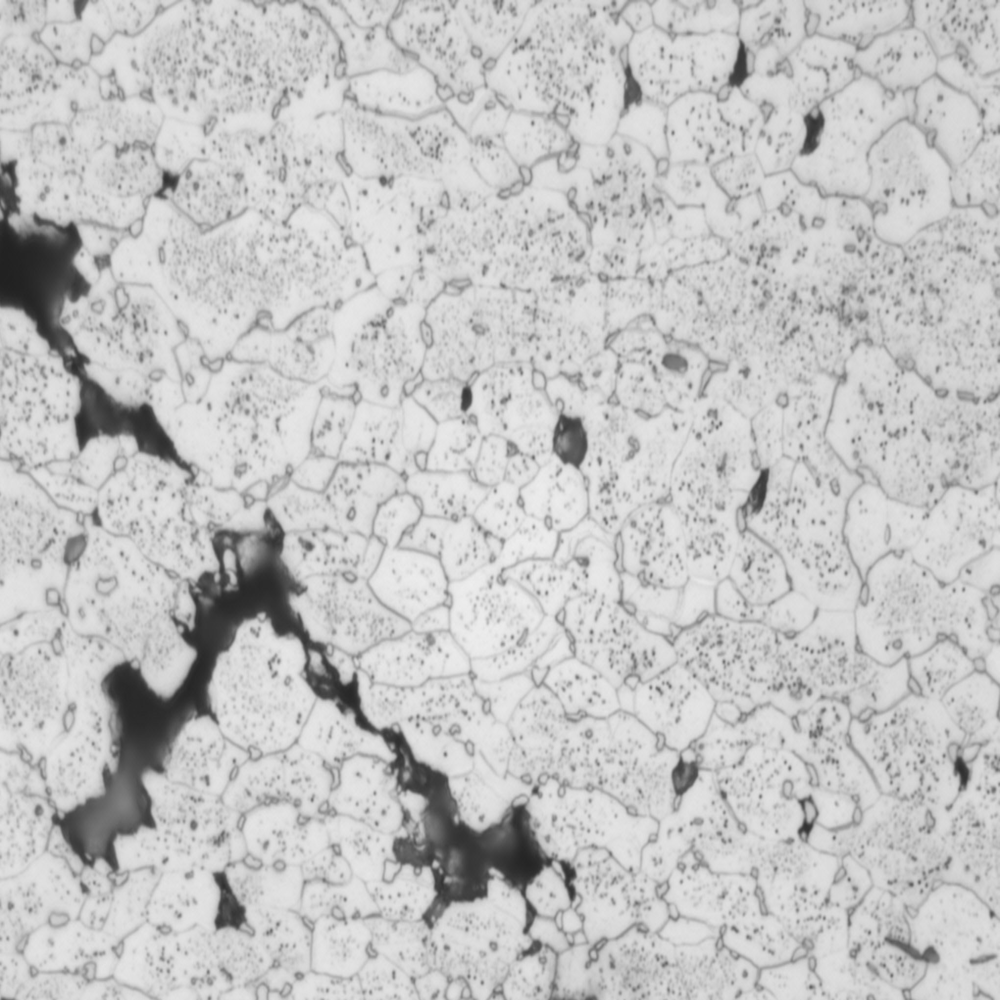crack: (66, 536, 609, 953), (1, 229, 210, 491), (713, 447, 801, 529), (525, 409, 607, 474), (662, 736, 718, 831)
